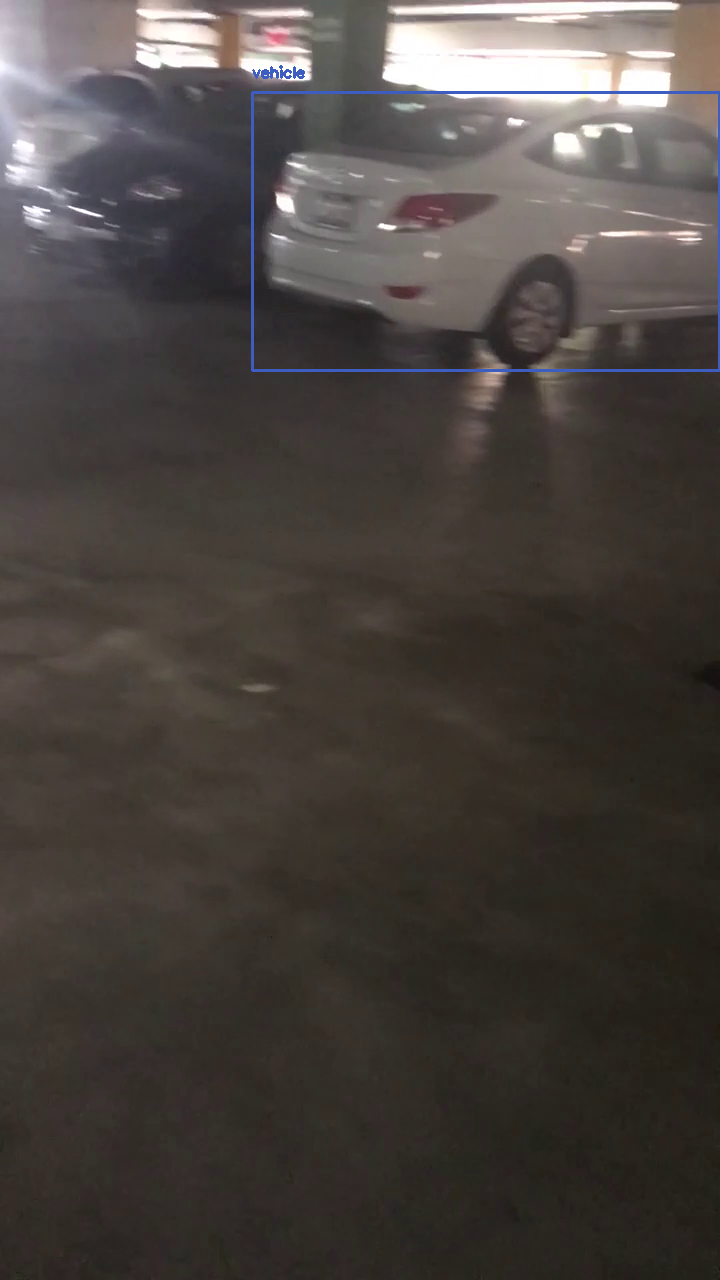vehicle: (252, 92, 719, 370)
